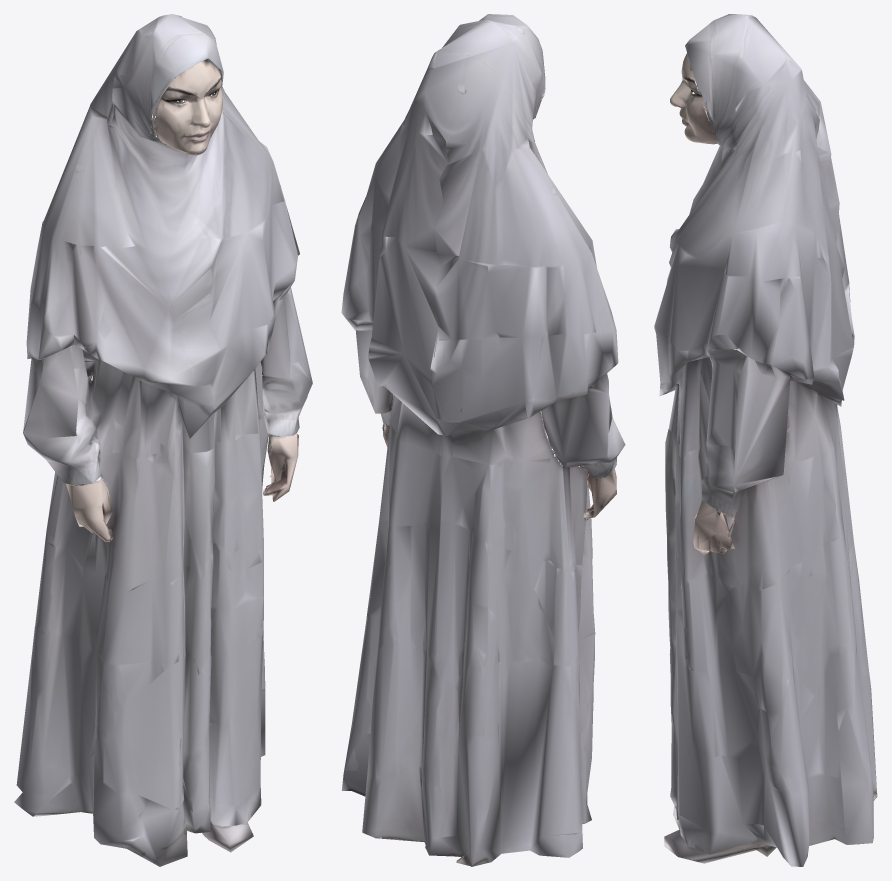
Rendered from woman2.glb.
The picture shows the model from 3 angles, left to right: view 1: azimuth 30°, elevation 25°; view 2: azimuth 150°, elevation 25°; view 3: azimuth 270°, elevation 25°; orthographic projection.
Visible parts, largest first — view 1: cloth, skin; view 2: cloth, skin; view 3: cloth, skin.
Part boxes in pixels (x1,y1,x2,y2): cloth: (14,14,312,866); skin: (66,60,298,541); cloth: (341,14,625,866); skin: (382,88,616,864); cloth: (654,14,877,866); skin: (670,53,735,554).
Bounding box in the file's own units: 0.5672 × 1.64 × 0.4046.
Materials: 2 (2 with a texture image).
